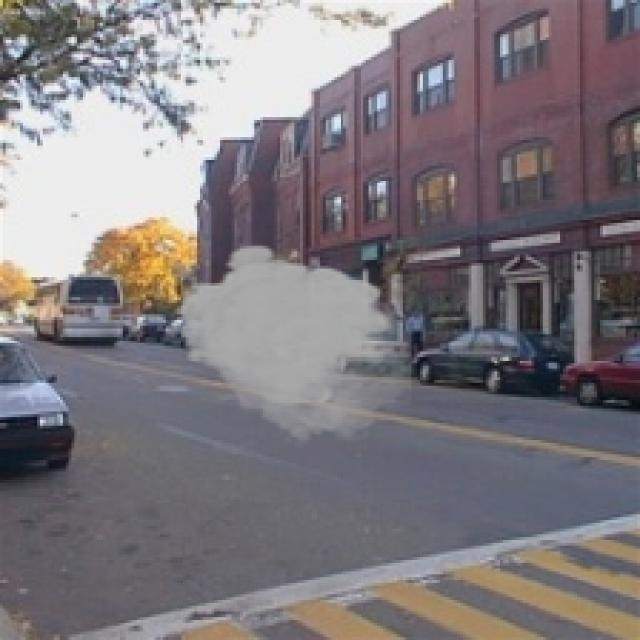smoke: (172, 243, 412, 448)
